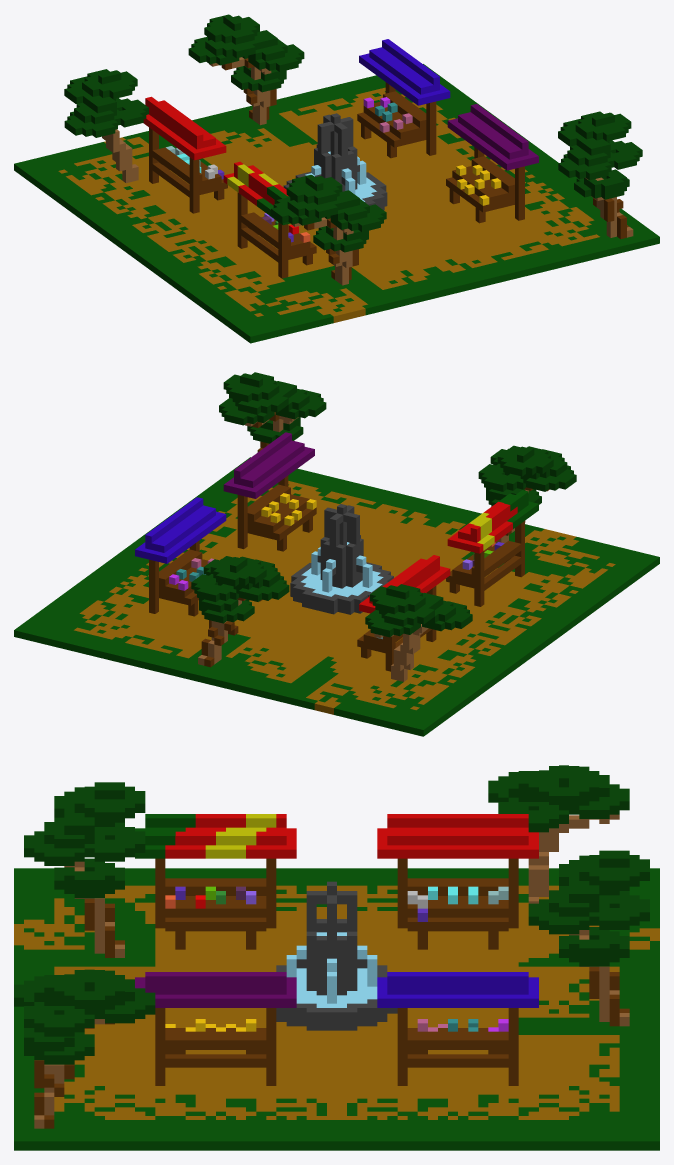
Rendered from MArketPlace.obj.
The picture shows the model from 3 angles, top to bottom: view 1: azimuth 30°, elevation 25°; view 2: azimuth 150°, elevation 25°; view 3: azimuth 270°, elevation 25°; orthographic projection. The views are drawn at different scales.
Visible parts, largest first — view 1: MArketPlace; view 2: MArketPlace; view 3: MArketPlace.
Part boxes in pixels (x1,y1,x2,y2): MArketPlace: (14,14,659,343); MArketPlace: (14,372,659,736); MArketPlace: (14,765,659,1150).
Bounding box in the file's own units: 64 × 17 × 64.
1 material, 1 textured.
